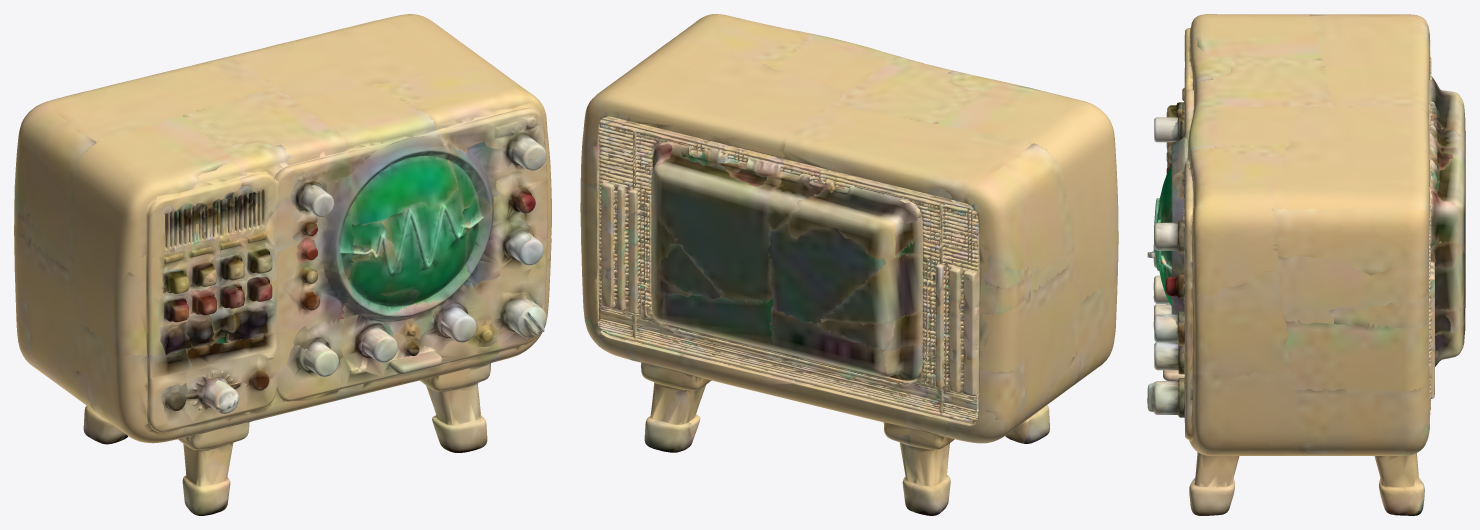
The model's file is oscilloscope.glb.
3 views of the same model, side by side, from view 1: azimuth 30°, elevation 25°; view 2: azimuth 150°, elevation 25°; view 3: azimuth 270°, elevation 25° (orthographic).
Size of the model in its own units: 1.9 by 1.45 by 1.22.
Materials: 1 (1 with a texture image).
